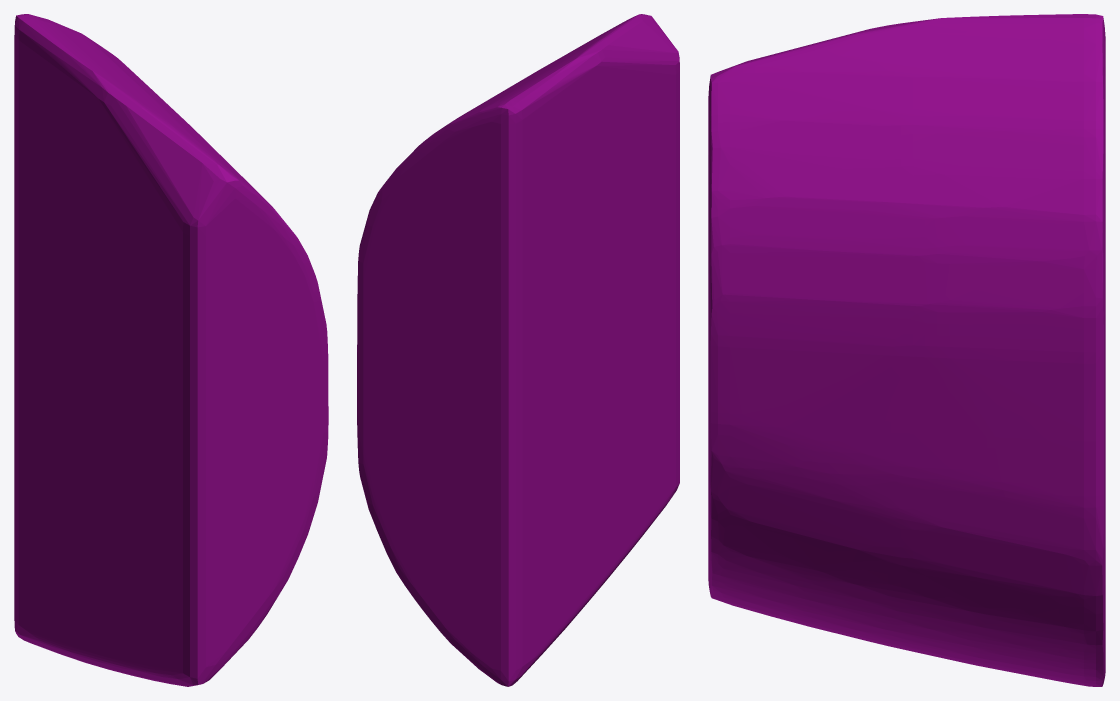
The model's file is left_f_distal_pst_part_14.obj.
The picture shows the model from 3 angles, left to right: view 1: azimuth 30°, elevation 25°; view 2: azimuth 150°, elevation 25°; view 3: azimuth 270°, elevation 25°; orthographic projection. The views are drawn at different scales.
Bounding box in the file's own units: 3.8 × 13.13 × 7.07.
